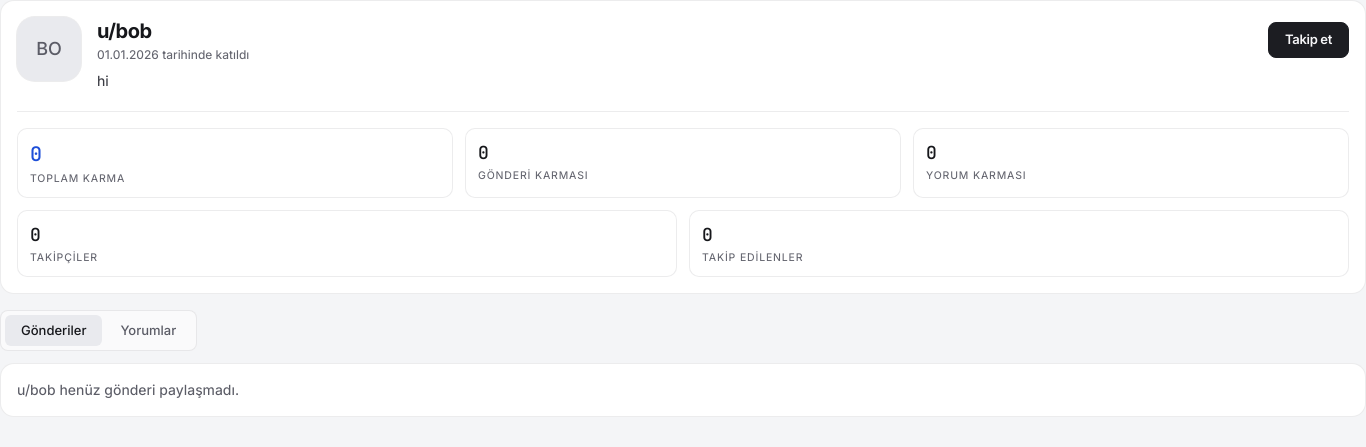
Test: UserProfilePage › shows a deleted comment body in Turkish in the comment list
The width and height of the screenshot is (1366, 447).
Click the button "Yorumlar": (148, 330) [104, 314, 192, 346]
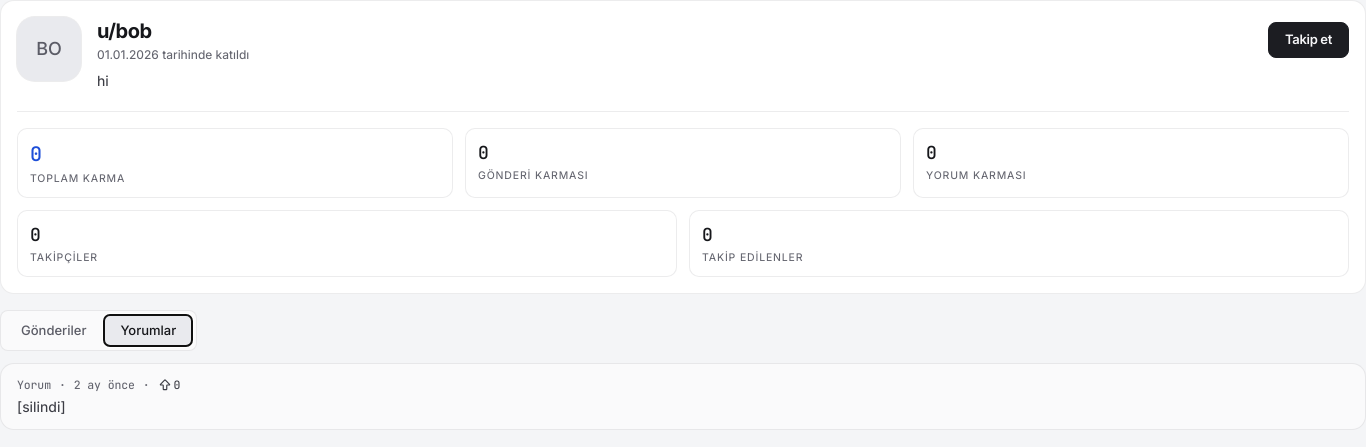
Now the text "[silindi]" is shown, box [17, 398, 66, 415]
